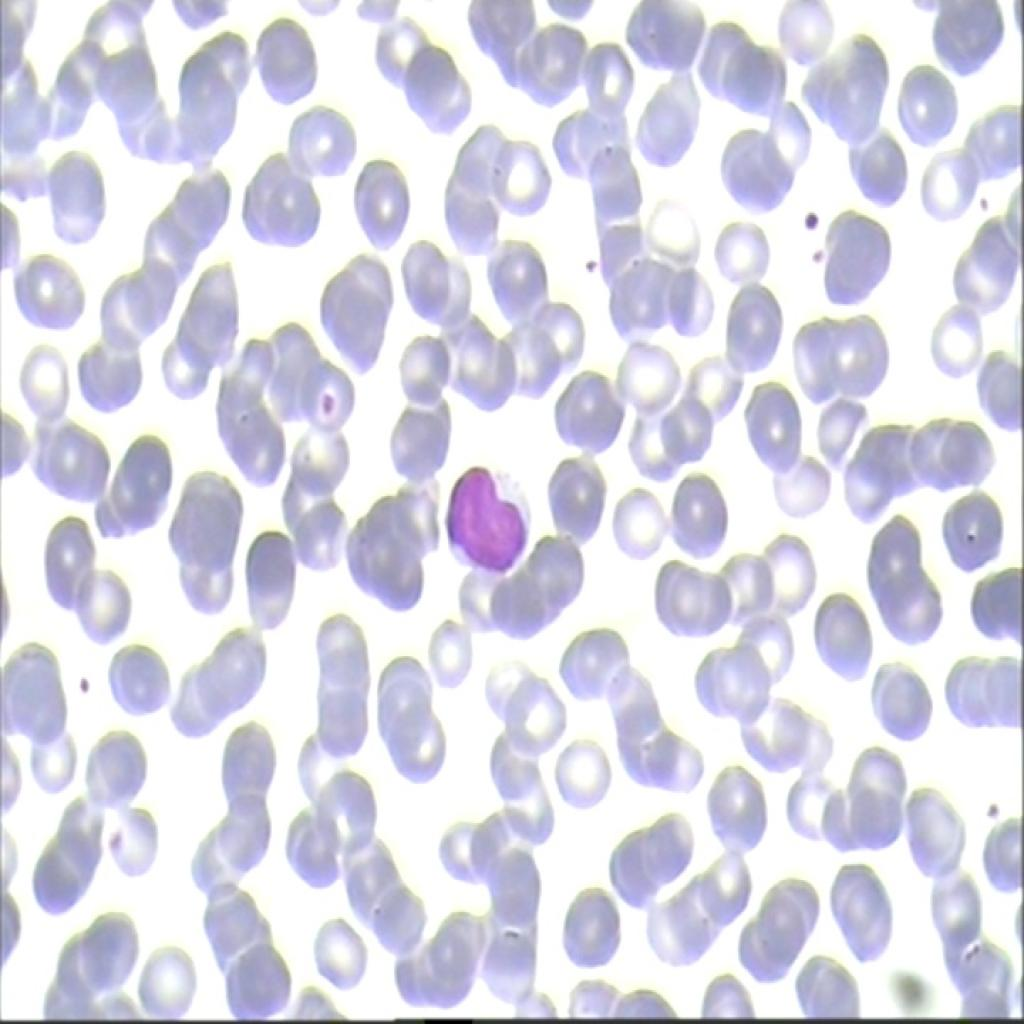Limfosit: (436, 468, 538, 592)
Platelet: (565, 229, 600, 283), (68, 652, 102, 702), (787, 198, 822, 244), (804, 236, 829, 278), (320, 384, 351, 414)
